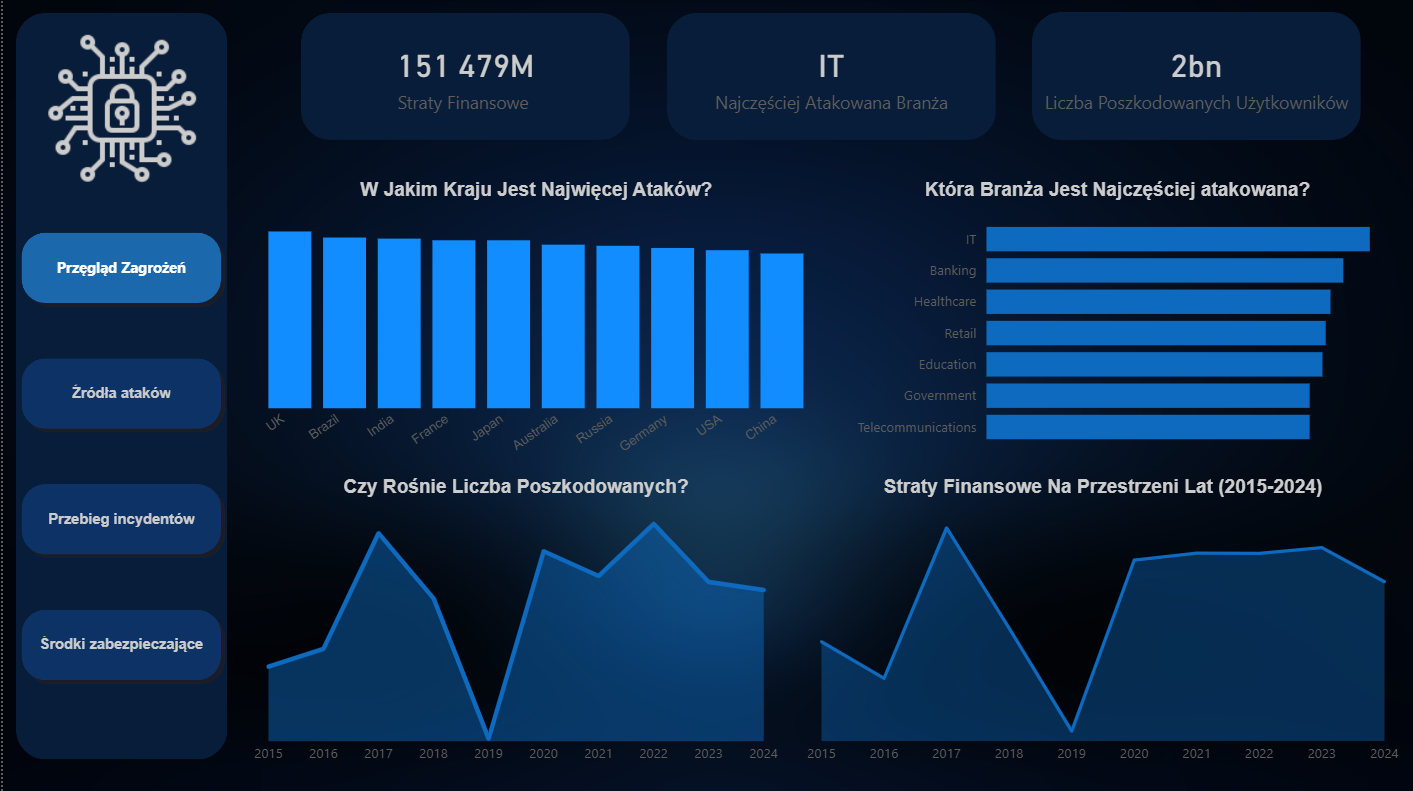

This screenshot's page, from the dashboard's own definition file:
{"tool":"powerbi","page":{"name":"Przęgląd Zagrożeń","canvas":[1280,720],"ordinal":0},"visuals":[{"type":"shape","box":[933.1,11.8,298.3,116.1],"z":0},{"type":"shape","box":[12.1,13.1,191.6,676.8],"z":1000},{"type":"shape","box":[602.1,12.7,298.3,115.2],"z":2000},{"type":"shape","box":[270.2,12.7,298.3,115.2],"z":3000},{"type":"stackedAreaChart","title":"Straty Finansowe Na Przestrzeni Lat (2015-2024)","fields":{"Y":["Sum(Global_Cybersecurity_Threats_2015-2024.Financial Loss in Million $)"],"Category":["Global_Cybersecurity_Threats_2015-2024.Year"]},"box":[714.6,431.6,565.8,270.2],"z":4000},{"type":"card","fields":{"Values":["Cybersecurity.Straty"]},"box":[270.2,28.1,298.3,82.5],"z":5000},{"type":"barChart","title":"Która Branża Jest Najczęściej atakowana?","fields":{"Y":["CountNonNull(Global_Cybersecurity_Threats_2015-2024.Attack Type)"],"Category":["Global_Cybersecurity_Threats_2015-2024.Target Industry"]},"box":[760.4,161.9,499.6,253.8],"z":6000},{"type":"columnChart","title":"W Jakim Kraju Jest Najwięcej Ataków?","fields":{"Y":["CountNonNull(Global_Cybersecurity_Threats_2015-2024.Attack Source)"],"Category":["Global_Cybersecurity_Threats_2015-2024.Country"]},"box":[215.8,161.9,535.6,269.8],"z":7000},{"type":"areaChart","title":"Czy Rośnie Liczba Poszkodowanych?","fields":{"Category":["Global_Cybersecurity_Threats_2015-2024.Year"],"Y":["Sum(Global_Cybersecurity_Threats_2015-2024.Number of Affected Users)"]},"box":[215.9,431.9,499,270.4],"z":8000},{"type":"card","fields":{"Values":["Global_Cybersecurity_Threats_2015-2024.TotalAffectedUsers"]},"box":[933.1,28.1,298.3,82.5],"z":9000},{"type":"card","fields":{"Values":["Global_Cybersecurity_Threats_2015-2024.Najczesciej Atakowana Branza"]},"box":[602.1,28.1,298.3,82.5],"z":10000},{"type":"image","box":[23.6,28.5,169,142.4],"z":11000},{"type":"pageNavigator","box":[11.8,206.8,191.3,418],"z":12000}]}

Visuals, with their boxes in screenshot pixels (x1, y1, x2, y2), scaled from the page's 1280x720 canvas onto the 1413x791 screenshot:
shape: Rect(1030, 13, 1359, 141)
shape: Rect(13, 14, 225, 758)
shape: Rect(665, 14, 994, 141)
shape: Rect(298, 14, 628, 141)
"Straty Finansowe Na Przestrzeni Lat (2015-2024)" stackedAreaChart: Rect(789, 474, 1412, 771)
card - Cybersecurity.Straty: Rect(298, 31, 628, 122)
"Która Branża Jest Najczęściej atakowana?" barChart: Rect(839, 178, 1391, 457)
"W Jakim Kraju Jest Najwięcej Ataków?" columnChart: Rect(238, 178, 829, 474)
"Czy Rośnie Liczba Poszkodowanych?" areaChart: Rect(238, 474, 789, 772)
card - Global_Cybersecurity_Threats_2015-2024.TotalAffectedUsers: Rect(1030, 31, 1359, 122)
card - Global_Cybersecurity_Threats_2015-2024.Najczesciej Atakowana Branza: Rect(665, 31, 994, 122)
image: Rect(26, 31, 213, 188)
pageNavigator: Rect(13, 227, 224, 686)
